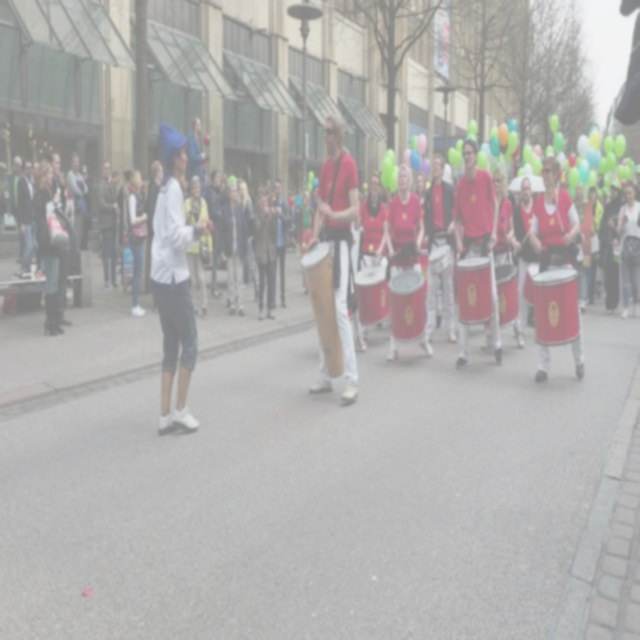pessoa: (148, 119, 210, 438), (305, 110, 362, 402), (527, 152, 587, 384), (450, 136, 505, 374), (383, 161, 434, 363), (480, 167, 525, 350), (420, 148, 460, 347), (34, 158, 66, 338), (46, 148, 74, 329), (184, 173, 214, 320), (510, 174, 536, 340), (218, 180, 248, 319), (596, 178, 624, 318), (126, 166, 150, 322), (353, 168, 389, 272), (96, 158, 123, 294), (615, 180, 639, 322), (252, 191, 278, 321), (144, 157, 164, 316), (202, 167, 225, 300), (14, 158, 38, 282), (271, 176, 292, 312), (238, 178, 260, 302), (585, 182, 604, 306), (65, 151, 88, 252), (9, 153, 29, 267), (572, 178, 588, 314), (298, 192, 316, 296), (184, 114, 208, 186), (117, 162, 135, 256), (285, 177, 305, 252), (343, 290, 367, 352), (79, 162, 94, 252), (109, 169, 122, 267), (414, 170, 429, 250), (0, 118, 13, 210), (246, 174, 275, 204), (20, 118, 36, 164), (372, 309, 392, 332), (502, 186, 520, 210), (594, 182, 612, 206), (29, 158, 42, 186), (378, 187, 393, 210), (355, 181, 370, 204), (179, 172, 191, 200), (632, 163, 640, 204), (308, 183, 318, 209), (561, 168, 571, 189), (619, 171, 626, 201), (217, 178, 228, 194), (450, 171, 458, 192), (56, 166, 66, 182), (532, 188, 544, 200)
